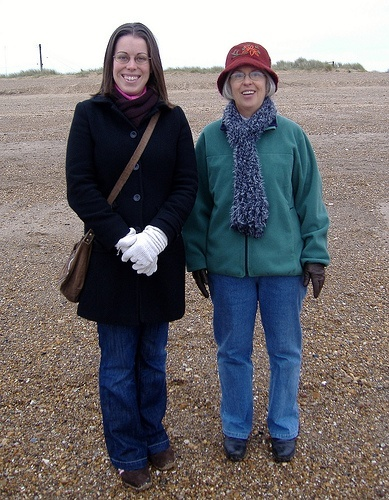head: (104, 21, 158, 100), (226, 36, 271, 114)
person: (179, 39, 333, 472), (61, 24, 201, 492)
